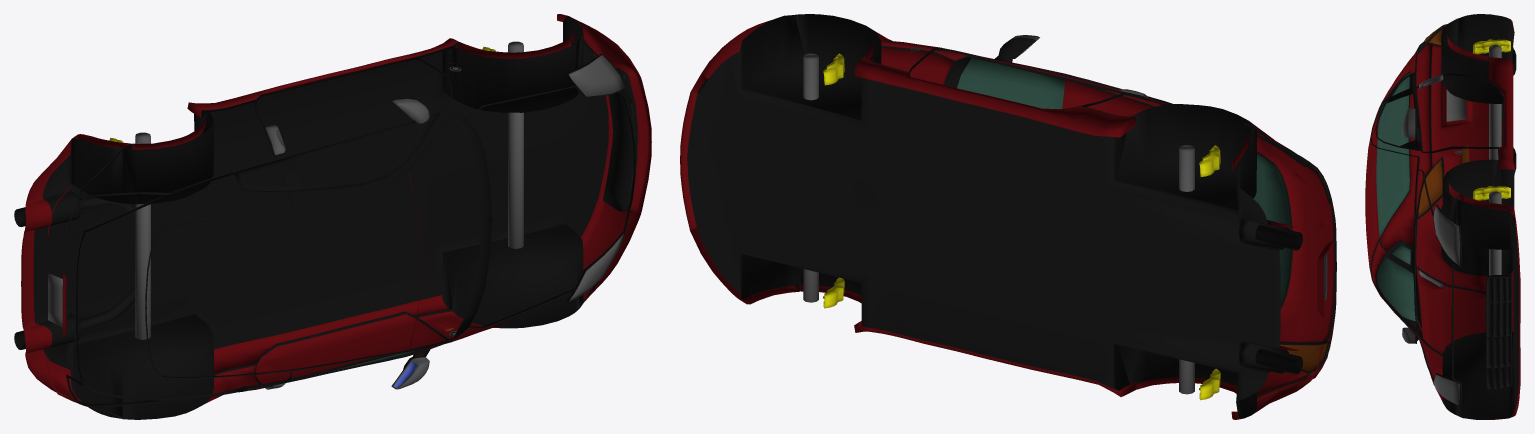
Rendered from 350z_chassis.obj.
3 views of the same model, side by side, from view 1: azimuth 30°, elevation 25°; view 2: azimuth 150°, elevation 25°; view 3: azimuth 270°, elevation 25° (orthographic). The views are drawn at different scales.
Bounding box in the file's own units: 4.48 × 1.98 × 1.21.
